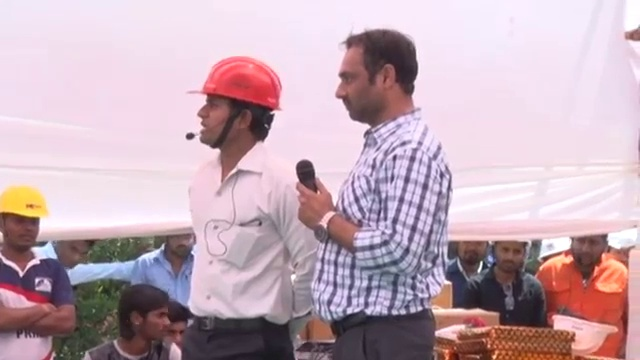helmet: (173, 53, 291, 116), (0, 186, 48, 222)
helmet_off: (336, 29, 423, 127), (116, 288, 172, 342), (45, 235, 94, 275), (495, 238, 531, 276), (162, 228, 196, 267), (572, 230, 608, 266), (455, 234, 490, 270), (165, 307, 191, 345)
helmet_on: (173, 56, 291, 168), (1, 185, 48, 254)
person: (292, 17, 469, 357), (164, 41, 330, 360), (0, 193, 78, 360), (548, 225, 627, 346), (83, 289, 183, 360), (465, 236, 545, 322), (33, 235, 137, 285), (135, 227, 197, 306), (441, 233, 495, 306)
